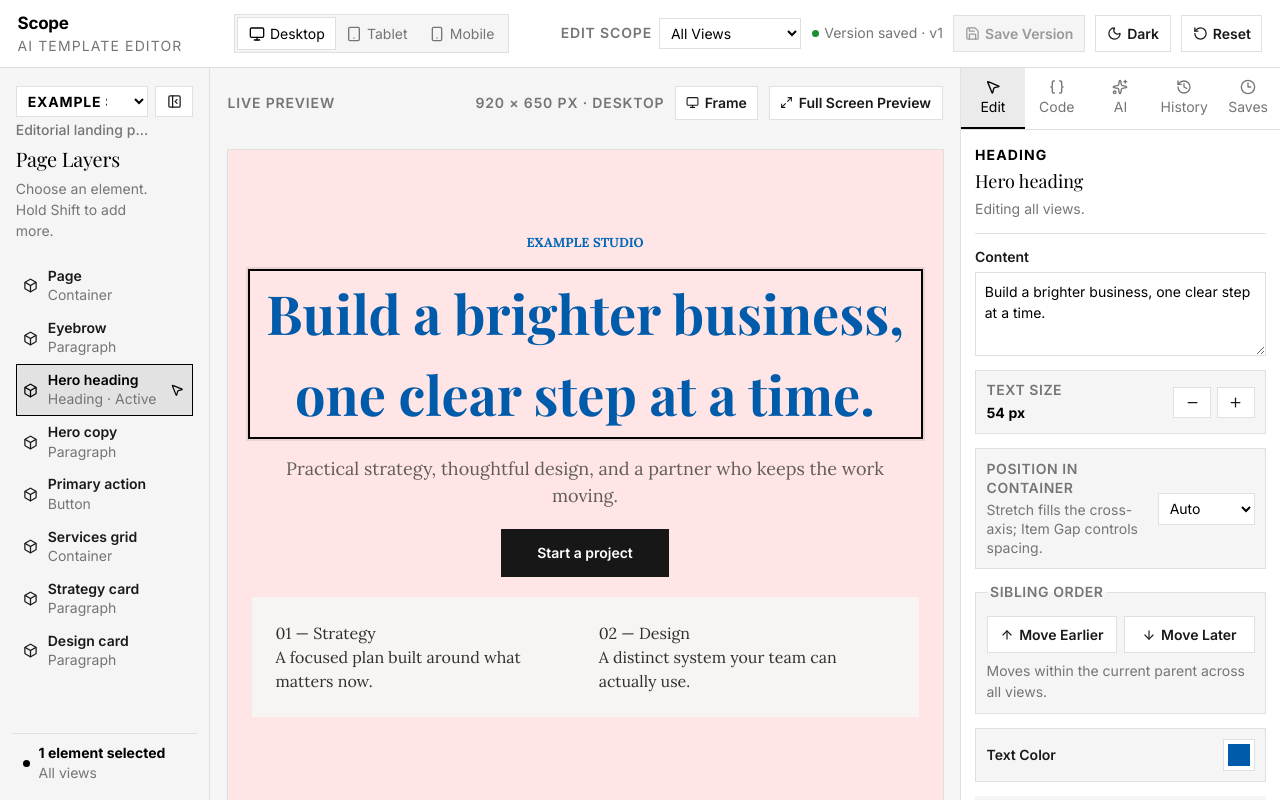
makes proposal acceptance keyboard operable
Click the tab "AI" at [1120, 99], box [1089, 68, 1152, 129]
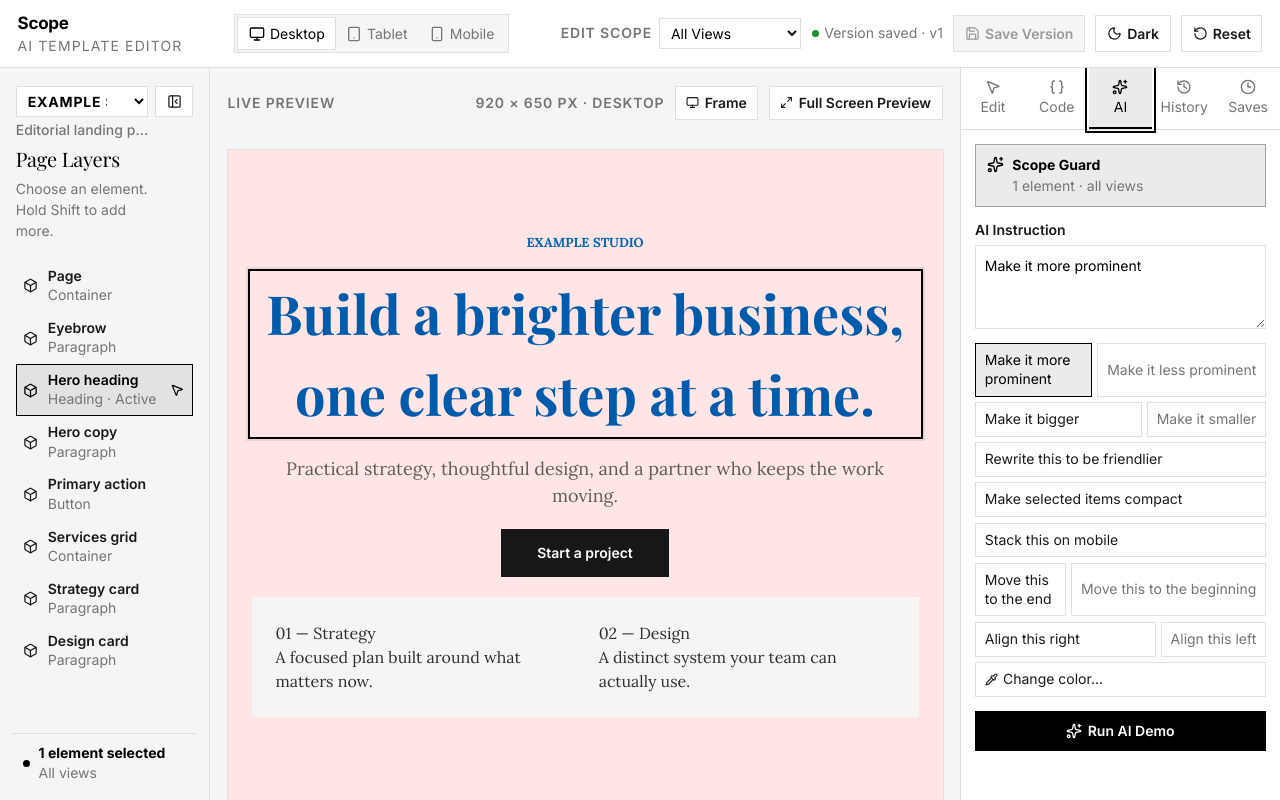
Click the button "Run AI Demo" at [1120, 731], box [975, 711, 1266, 751]
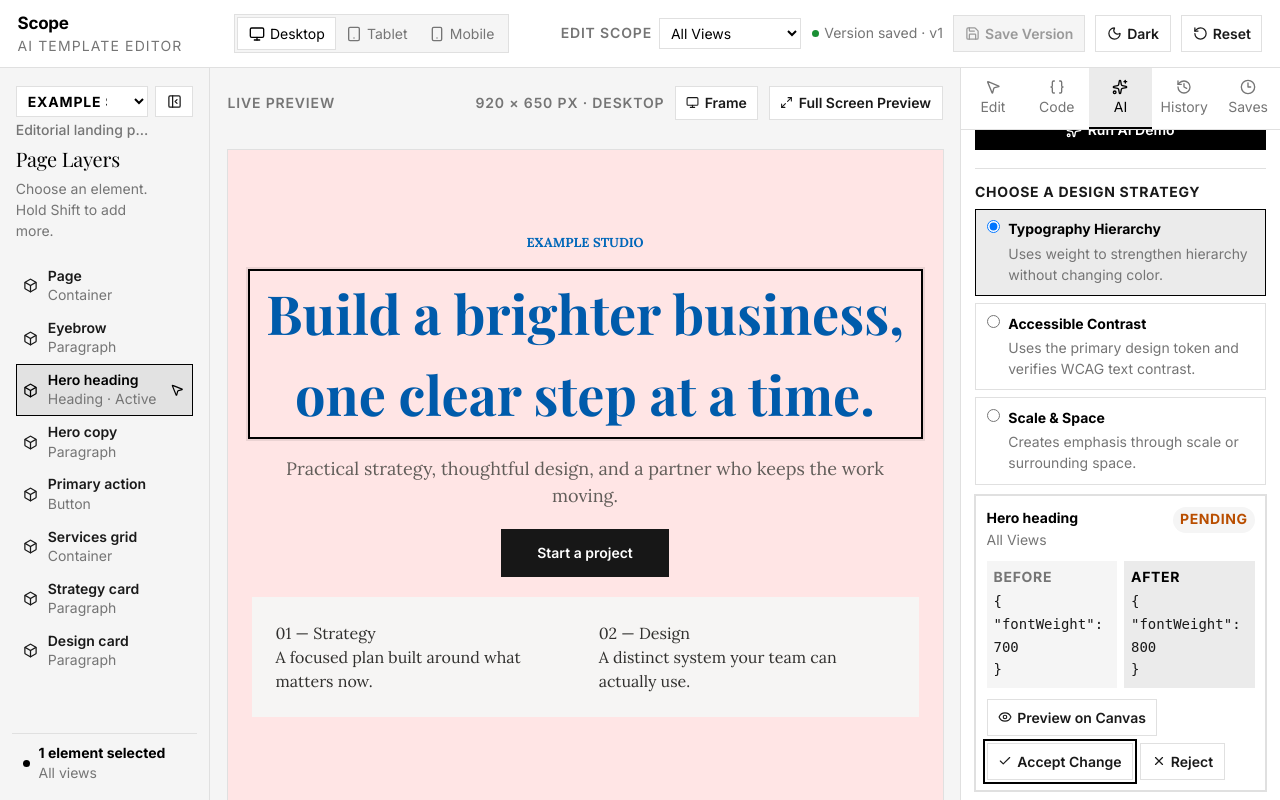
Press Enter
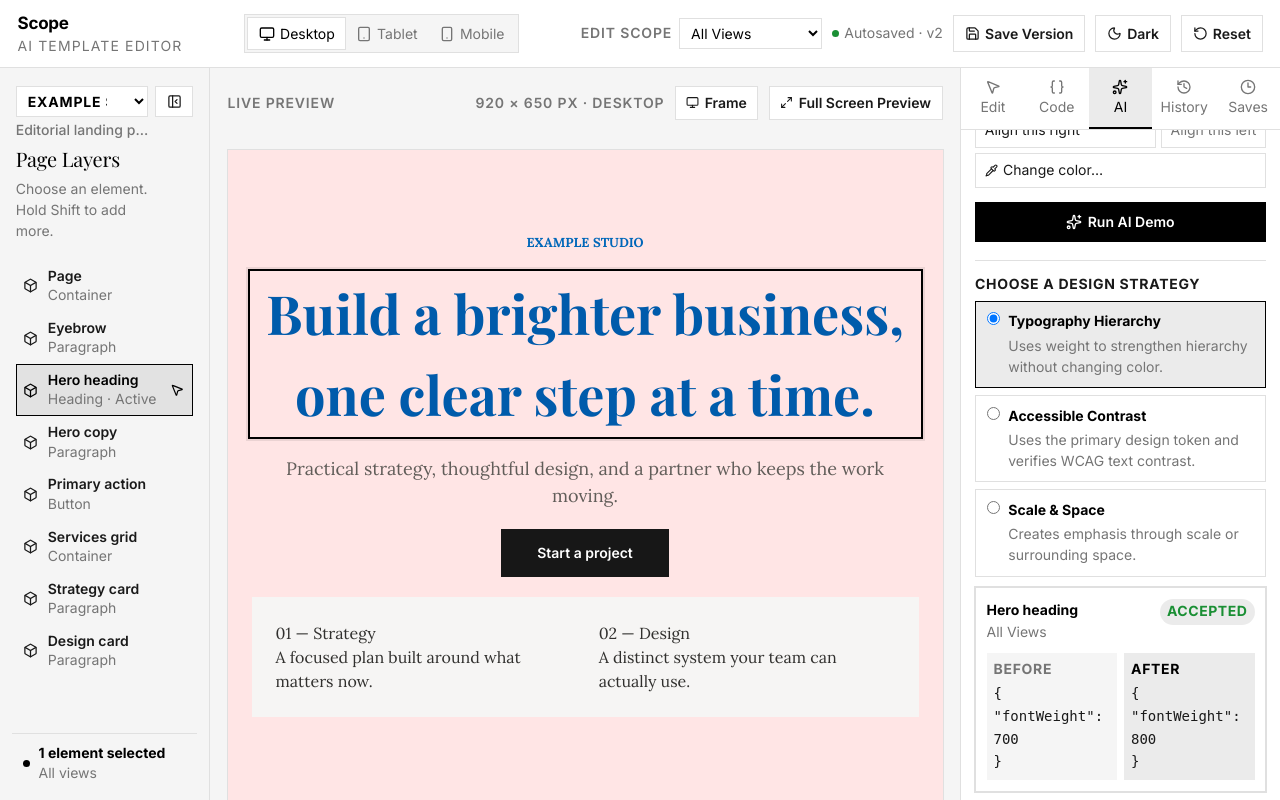
Check: the text "accepted" is shown, box [1167, 602, 1248, 619]
